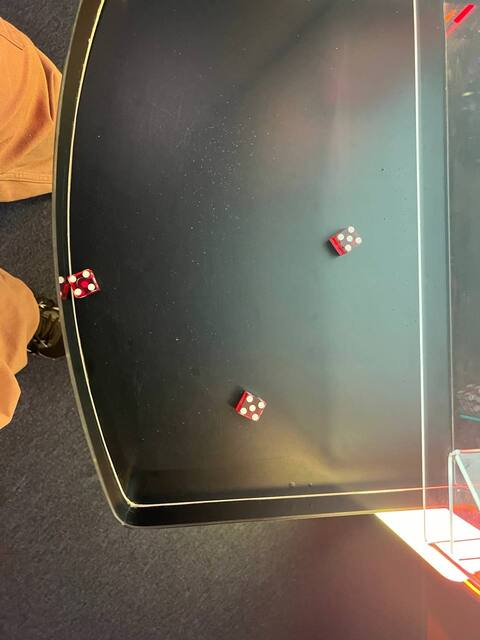five: (331, 220, 364, 253), (237, 390, 268, 423)
four: (65, 266, 100, 301)
